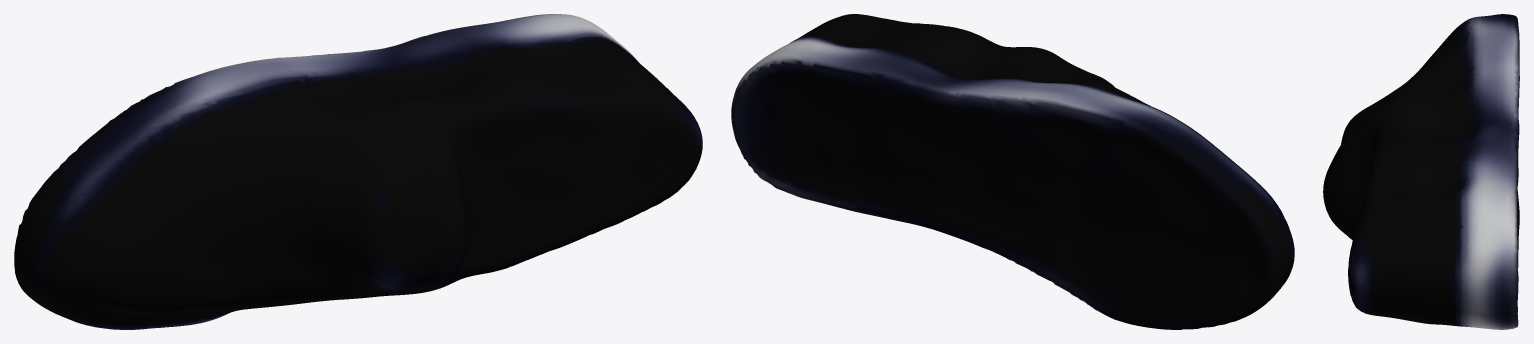
File: shoe.glb
The picture shows the model from 3 angles, left to right: view 1: azimuth 30°, elevation 25°; view 2: azimuth 150°, elevation 25°; view 3: azimuth 270°, elevation 25°; orthographic projection. The views are drawn at different scales.
Bounding box in the file's own units: 0.9998 × 0.3684 × 0.3315.
